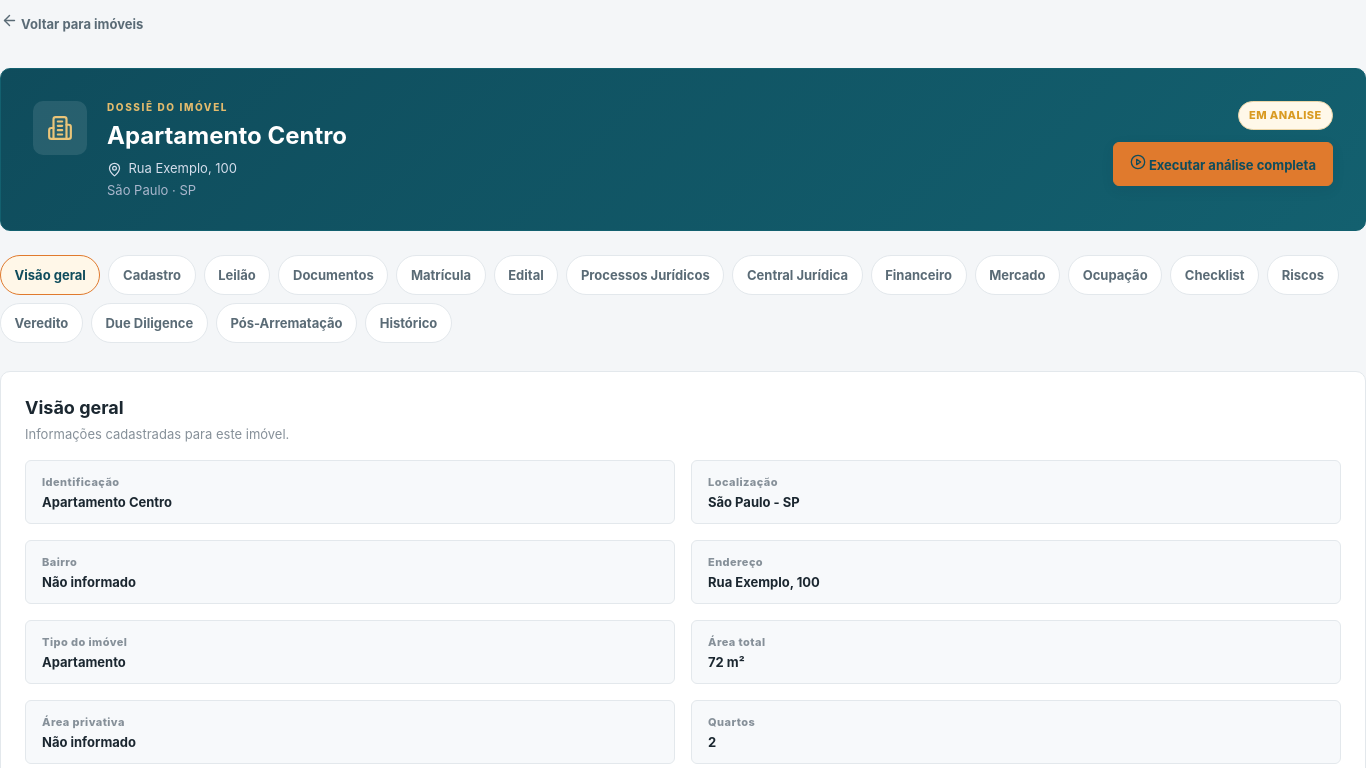
Test: PropertyDetailPage › mantém a Visão geral como seção inicial e navega entre seções visuais
Expected: the heading "Apartamento Centro" is shown, [107,121,347,150]
Click the button "Leilão" at {"x": 237, "y": 275}, box [204,255,270,295]
(page scrolled)
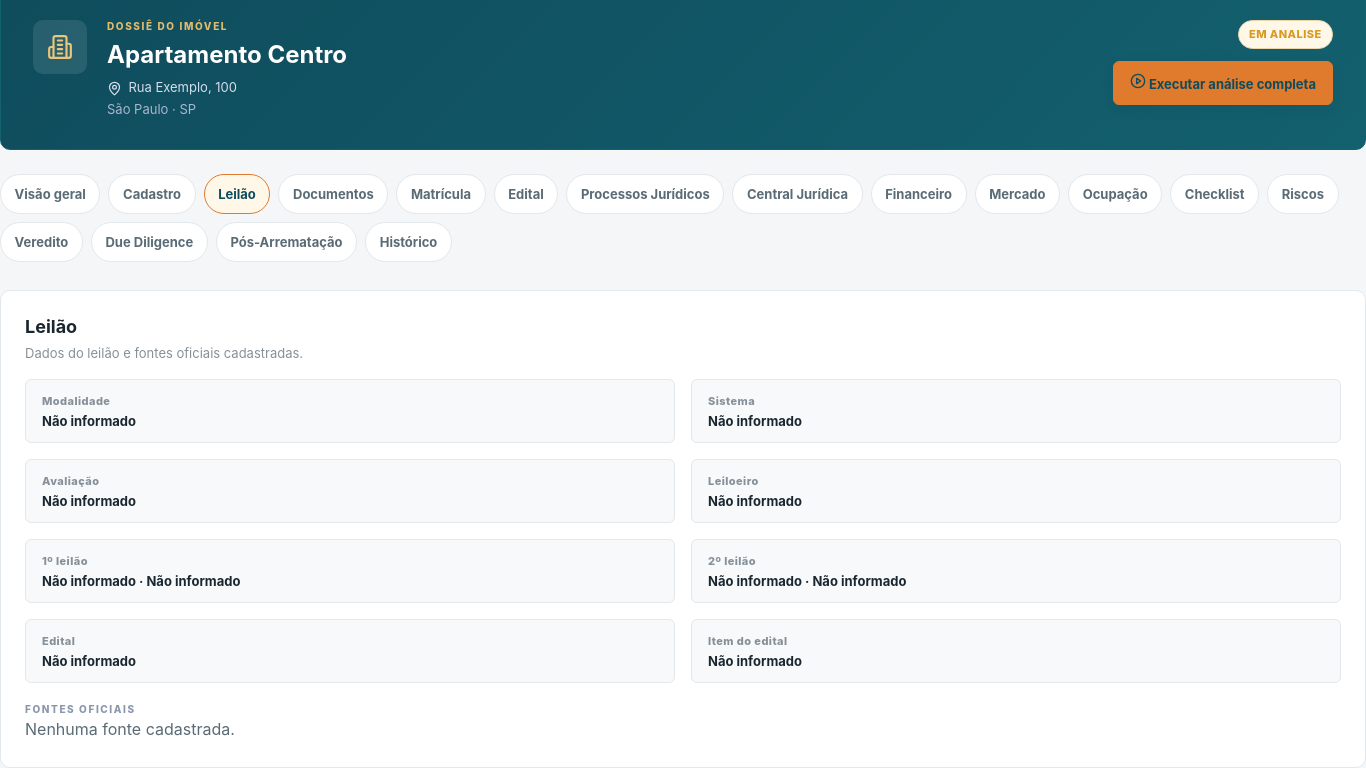
Expected: the heading "Leilão" is shown, [25,316,77,337]
Expected: the text "FONTES OFICIAIS" is shown, [25,703,136,715]
